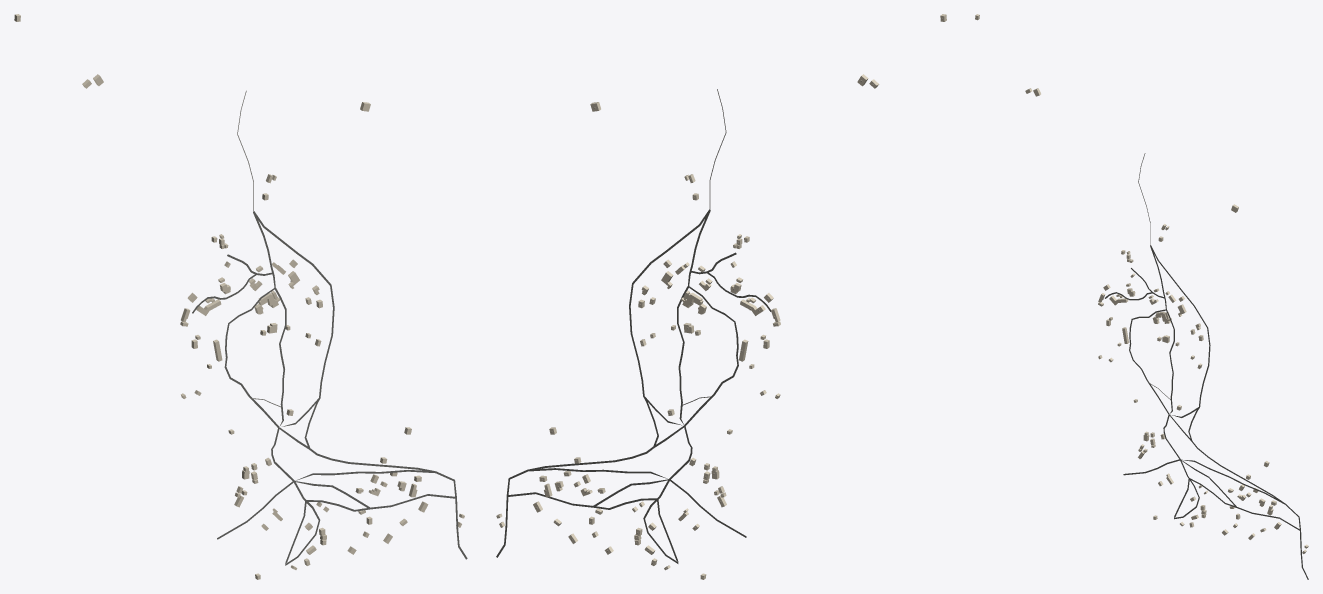
The model's file is historic-palestine-11_21_3525_3154.glb.
3 views of the same model, side by side, from view 1: azimuth 30°, elevation 25°; view 2: azimuth 150°, elevation 25°; view 3: azimuth 330°, elevation 25° (orthographic). The views are drawn at different scales.
Parts seen in each view (by area): view 1: Road .008, Road .002; view 2: Road .008, Road .002; view 3: Road .008, Road .002.
Part boxes in pixels (x1,y1,x2,y2): Road .008: [253, 211, 467, 559]; Road .002: [224, 213, 286, 427]; Road .008: [496, 209, 709, 557]; Road .002: [677, 210, 738, 426]; Road .008: [1150, 245, 1308, 579]; Road .002: [1129, 245, 1174, 414].
Size of the model in its own units: 831 by 1150 by 8.7.
